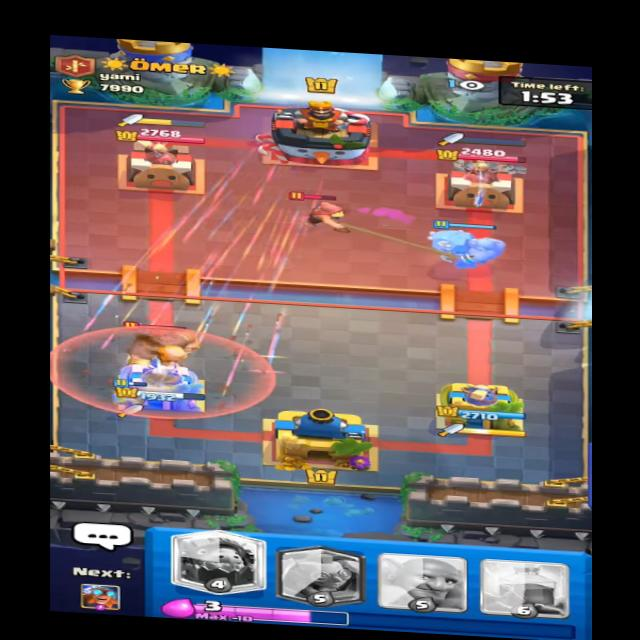arrows: (56, 317, 284, 424)
fisherman: (280, 193, 354, 237)
giant: (102, 316, 215, 378)
